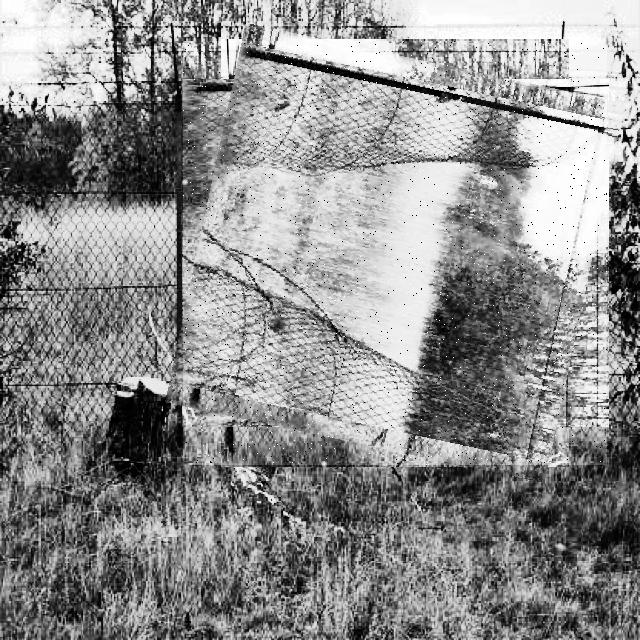anomaly-fence: (183, 41, 607, 465)
